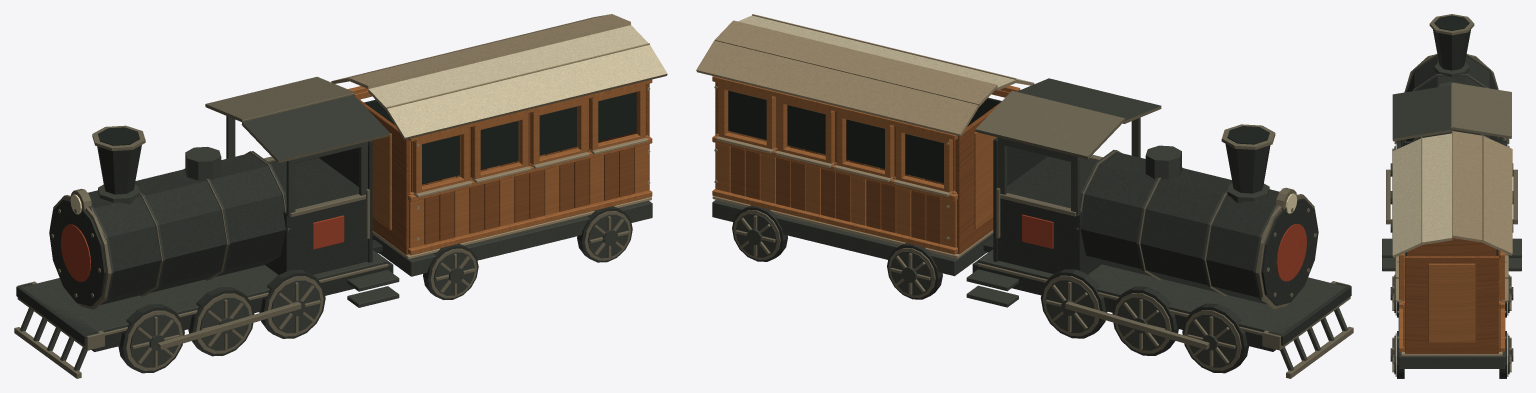
Rendered from train-papercraft.glb.
3 views of the same model, side by side, from view 1: azimuth 30°, elevation 25°; view 2: azimuth 150°, elevation 25°; view 3: azimuth 270°, elevation 25° (orthographic). The views are drawn at different scales.
Visible parts, largest first — view 1: EXPORT_Cab back panel, EXPORT_Cab access step, EXPORT_Cream folded coach roof, EXPORT_Coach end door inset, EXPORT_Band cut edge, EXPORT_Coach end wall, EXPORT_Folded cab roof, EXPORT_Coach window dark inset, EXPORT_Coach edge layer, EXPORT_Cab printed side badge; view 2: EXPORT_Cab back panel, EXPORT_Cab access step, EXPORT_Cream folded coach roof, EXPORT_Coach end door inset, EXPORT_Band cut edge, EXPORT_Coach end wall, EXPORT_Folded cab roof, EXPORT_Coach window dark inset, EXPORT_Coach edge layer, EXPORT_Cab printed side badge; view 3: EXPORT_Cream folded coach roof, EXPORT_Coach end wall, EXPORT_Folded cab roof, EXPORT_Coach end door inset, EXPORT_Cab access step, EXPORT_Cab back panel, EXPORT_Band cut edge, EXPORT_Coach edge layer, EXPORT_Coach window dark inset.
Part boxes in pixels (x1,y1,x2,y2): EXPORT_Cab back panel: [16, 140, 632, 373]; EXPORT_Cab access step: [20, 116, 652, 370]; EXPORT_Cream folded coach roof: [331, 14, 667, 139]; EXPORT_Coach end door inset: [348, 79, 652, 255]; EXPORT_Band cut edge: [14, 93, 631, 378]; EXPORT_Coach end wall: [355, 83, 649, 254]; EXPORT_Folded cab roof: [205, 76, 390, 163]; EXPORT_Coach window dark inset: [98, 92, 636, 184]; EXPORT_Coach edge layer: [349, 43, 651, 259]; EXPORT_Cab printed side badge: [60, 215, 344, 281]; EXPORT_Cab back panel: [732, 137, 1351, 373]; EXPORT_Cab access step: [712, 117, 1348, 370]; EXPORT_Cream folded coach roof: [696, 15, 1034, 136]; EXPORT_Coach end door inset: [712, 76, 1020, 254]; EXPORT_Band cut edge: [733, 118, 1353, 378]; EXPORT_Coach end wall: [715, 82, 1000, 254]; EXPORT_Folded cab roof: [975, 78, 1161, 159]; EXPORT_Coach window dark inset: [728, 90, 1269, 183]; EXPORT_Coach edge layer: [712, 14, 1016, 258]; EXPORT_Cab printed side badge: [1022, 214, 1306, 281]; EXPORT_Cream folded coach roof: [1392, 131, 1512, 257]; EXPORT_Coach end wall: [1404, 238, 1499, 353]; EXPORT_Folded cab roof: [1392, 82, 1511, 141]; EXPORT_Coach end door inset: [1399, 250, 1504, 351]; EXPORT_Cab access step: [1382, 54, 1521, 374]; EXPORT_Cab back panel: [1397, 30, 1506, 378]; EXPORT_Band cut edge: [1386, 14, 1517, 376]; EXPORT_Coach edge layer: [1395, 137, 1508, 355]; EXPORT_Coach window dark inset: [1405, 15, 1498, 255].
Bounding box in the file's own units: 5.28 × 1.83 × 1.34.
Materials: 10 (10 with a texture image).
